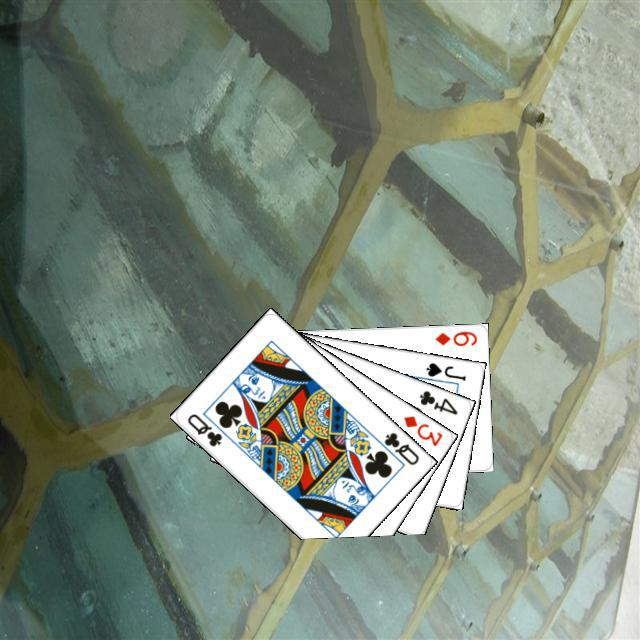3d: (398, 411, 444, 448)
4c: (414, 385, 459, 416)
6d: (430, 326, 478, 348)
Js: (421, 358, 468, 382)
Qc: (371, 427, 421, 469), (182, 408, 224, 448)
